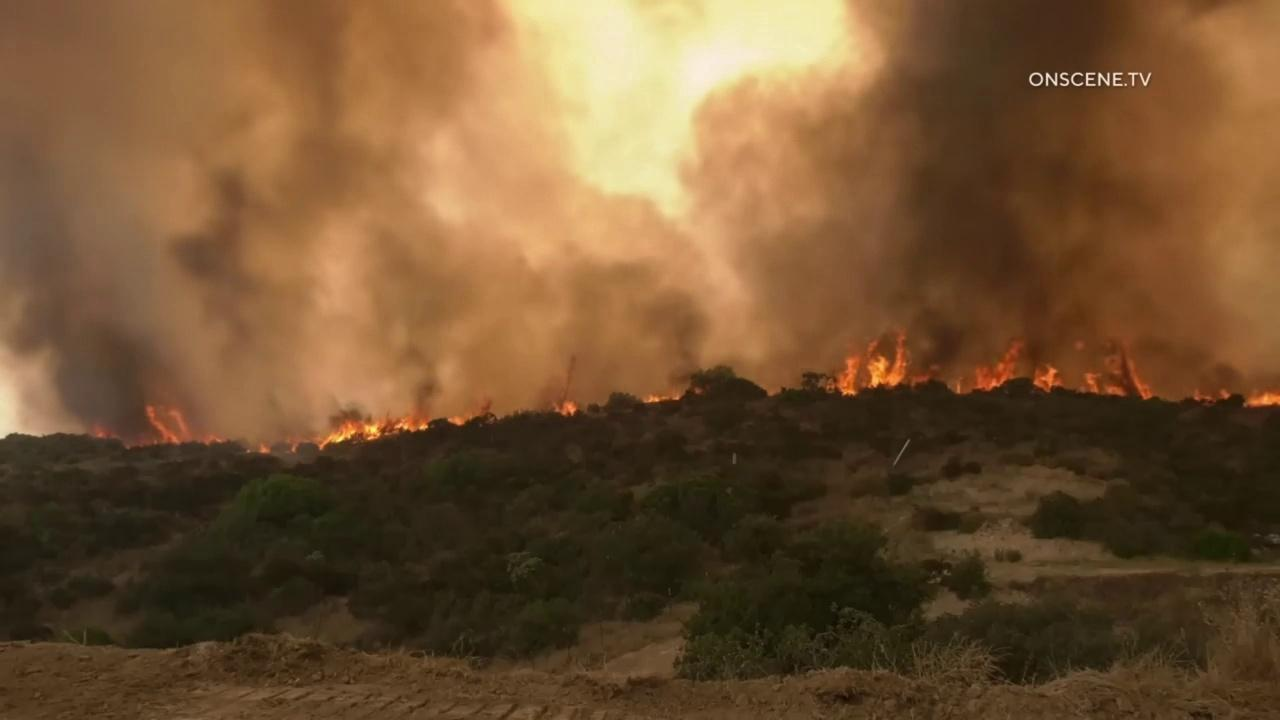fire: (824, 326, 909, 398), (95, 404, 228, 450), (1075, 337, 1154, 400), (310, 415, 429, 452), (974, 337, 1024, 393), (1033, 362, 1065, 394), (1241, 392, 1280, 408), (643, 392, 681, 404), (554, 399, 578, 417), (1193, 389, 1216, 406), (910, 374, 931, 390), (446, 415, 466, 427), (288, 437, 299, 453), (1220, 389, 1231, 401), (258, 444, 271, 454)
smoke: (0, 0, 1280, 448)
